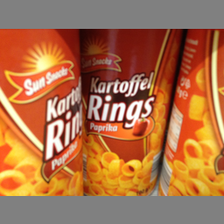chips: (81, 30, 176, 194), (1, 30, 82, 196), (164, 29, 224, 194)
